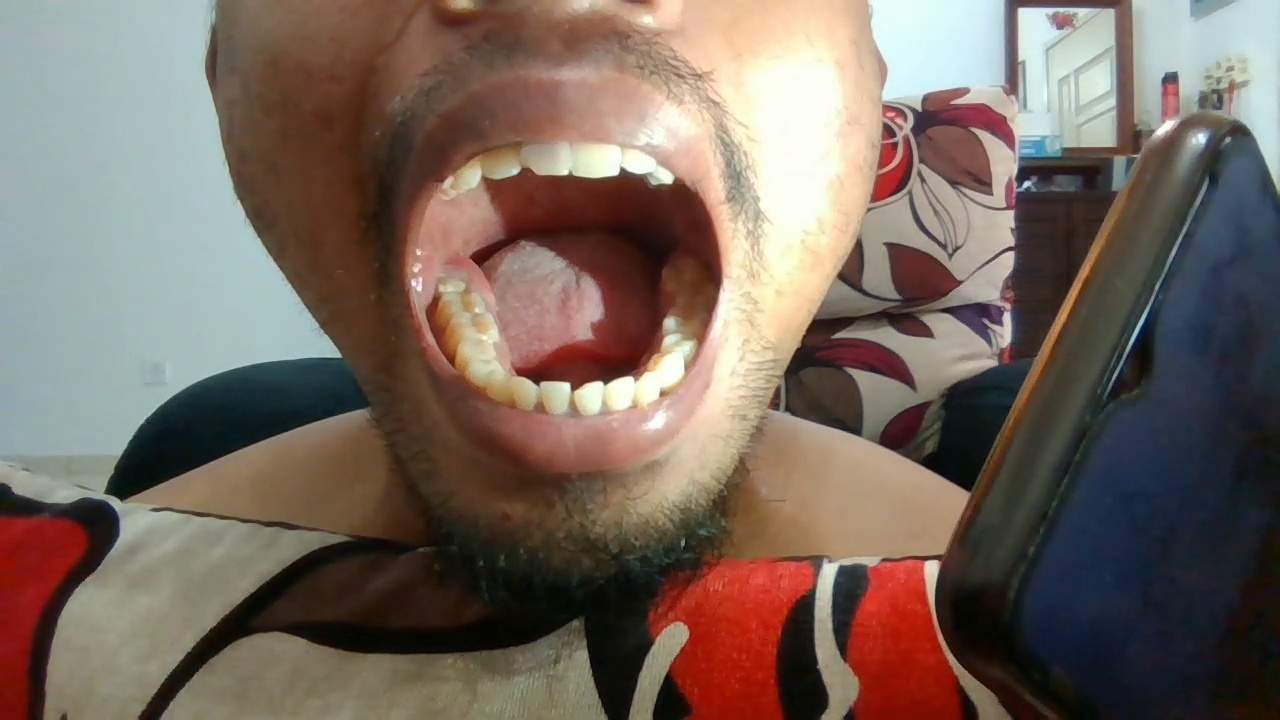1st Molar: (445, 310, 498, 340), (663, 305, 708, 337)
1st Premolar: (648, 349, 684, 387), (466, 361, 504, 384)
2nd Molar: (437, 291, 487, 317), (671, 285, 717, 311)
2nd Premolar: (456, 337, 496, 363), (660, 332, 697, 360)
3rd Molar: (660, 256, 707, 287), (432, 271, 470, 295)
Canine: (453, 155, 482, 189), (635, 372, 661, 406), (486, 368, 511, 402), (648, 162, 677, 186)
Central Incisor: (518, 140, 572, 177), (572, 139, 621, 179), (540, 379, 573, 418), (573, 379, 606, 417)
Lateral Incisor: (480, 143, 522, 179), (621, 141, 657, 176), (606, 373, 636, 413), (510, 376, 541, 414)
